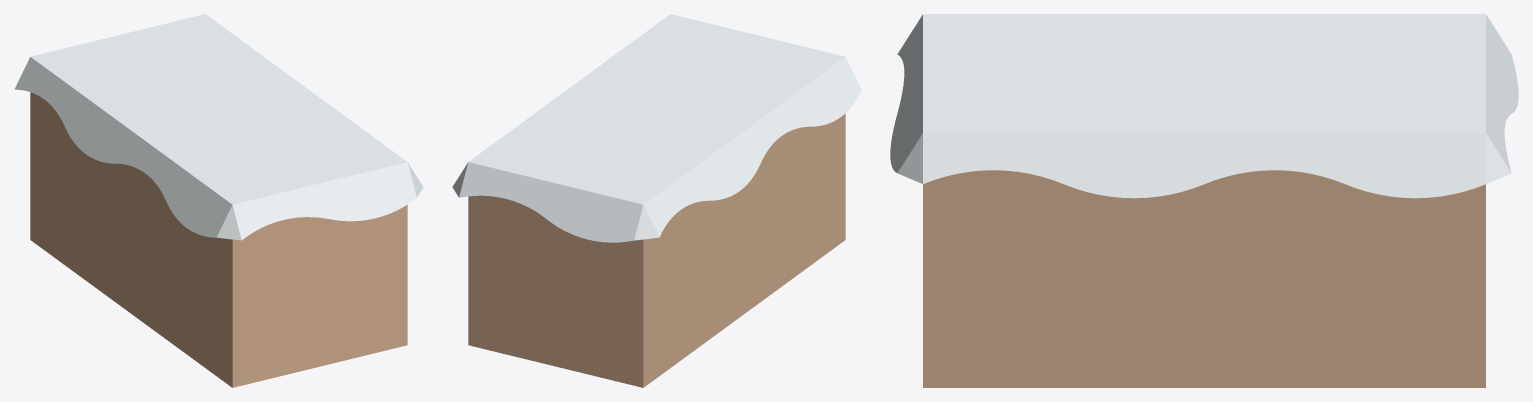
The picture shows the model from 3 angles, left to right: view 1: azimuth 30°, elevation 25°; view 2: azimuth 150°, elevation 25°; view 3: azimuth 270°, elevation 25°; orthographic projection. The views are drawn at different scales.
Visible parts, largest first — view 1: blockSnowLong; view 2: blockSnowLong; view 3: blockSnowLong.
Part boxes in pixels (x1,y1,x2,y2): blockSnowLong: (14, 14, 423, 387); blockSnowLong: (452, 14, 861, 387); blockSnowLong: (890, 14, 1518, 387).
Bounding box in the file's own units: 1.23 × 1 × 2.23.
